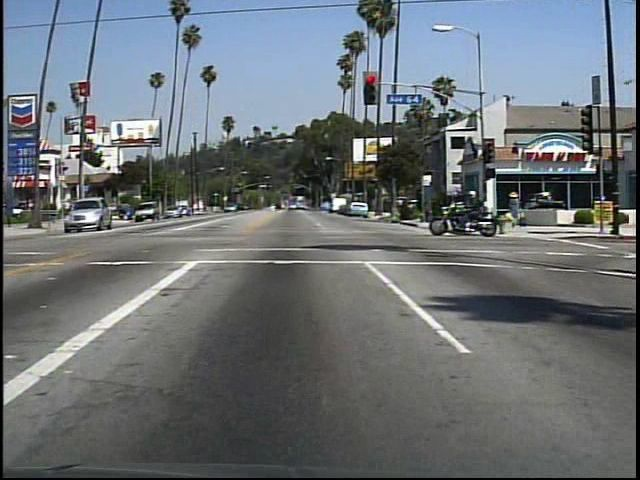person: (460, 190, 491, 234), (503, 186, 528, 231)
